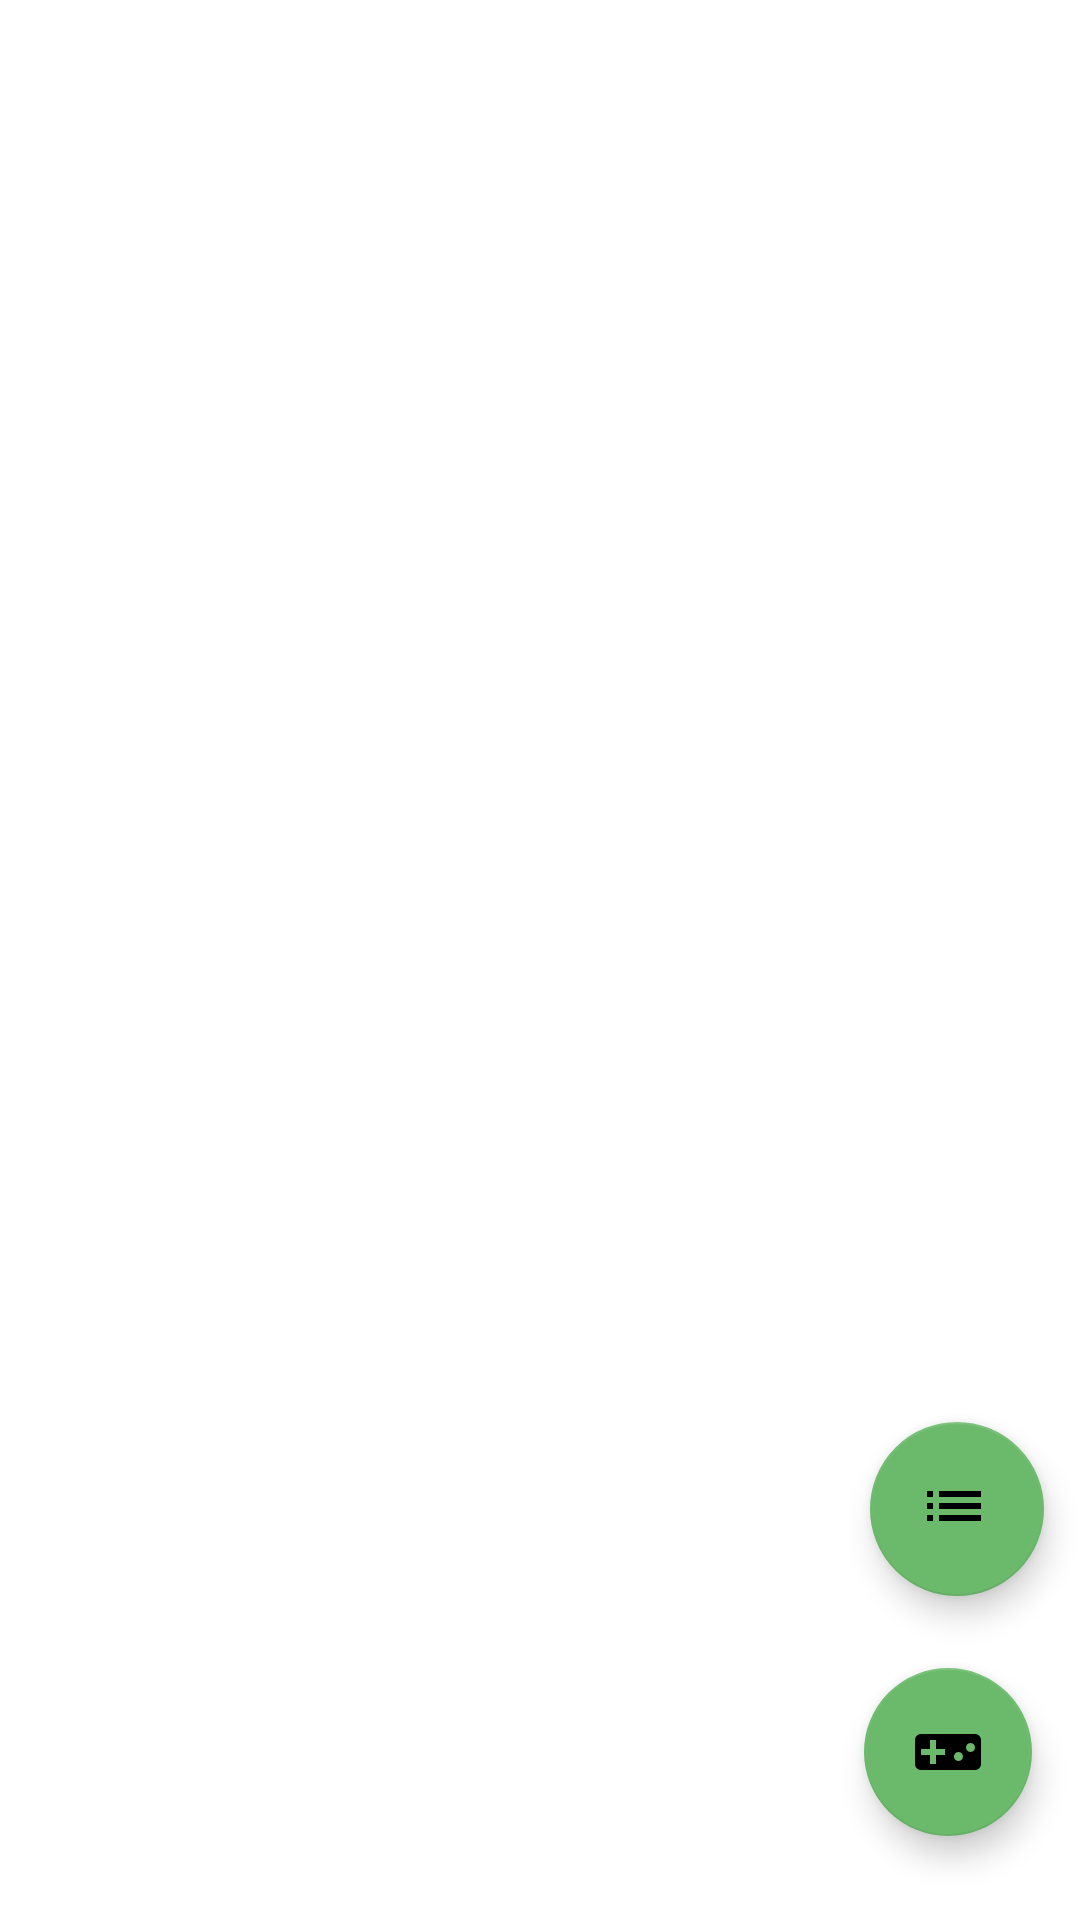

Named icons in this screenshot (1080px x 1920px) and their bounding boxes, Rect(x1, y1, x2, y2):
list: Rect(870, 1422, 1044, 1596)
videogame: Rect(864, 1668, 1032, 1836)
